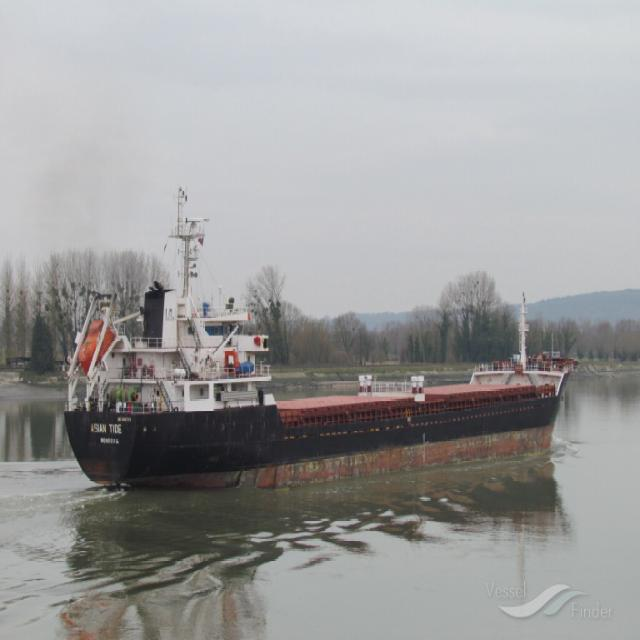OCR: (83, 419, 128, 445)
